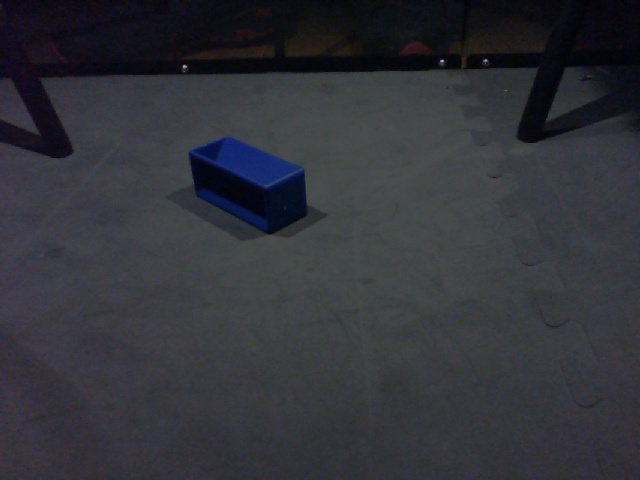BlueSample: (188, 131, 309, 237)
